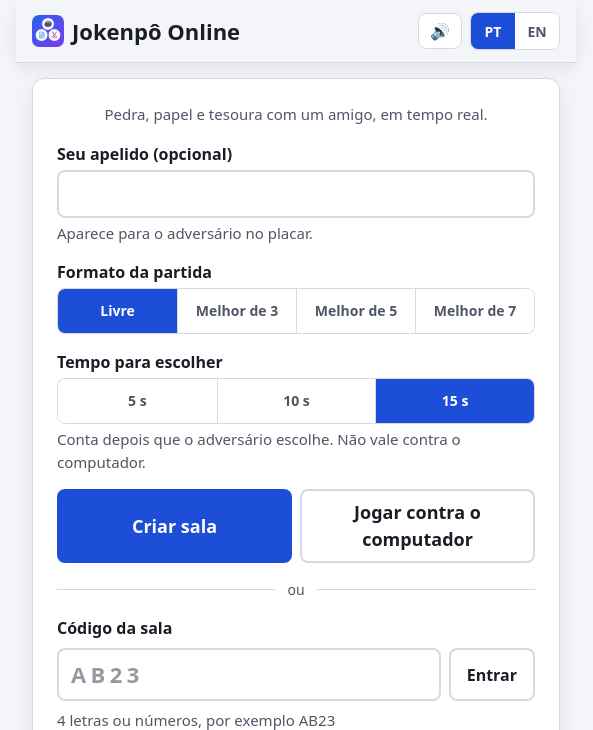
Scenario: fase 5: formato, apelido e computador › o formato escolhido vale para a sala criada e aparece no placar
Click the radio button labelled "Melhor de 3" at (236, 311), box [177, 289, 296, 333]
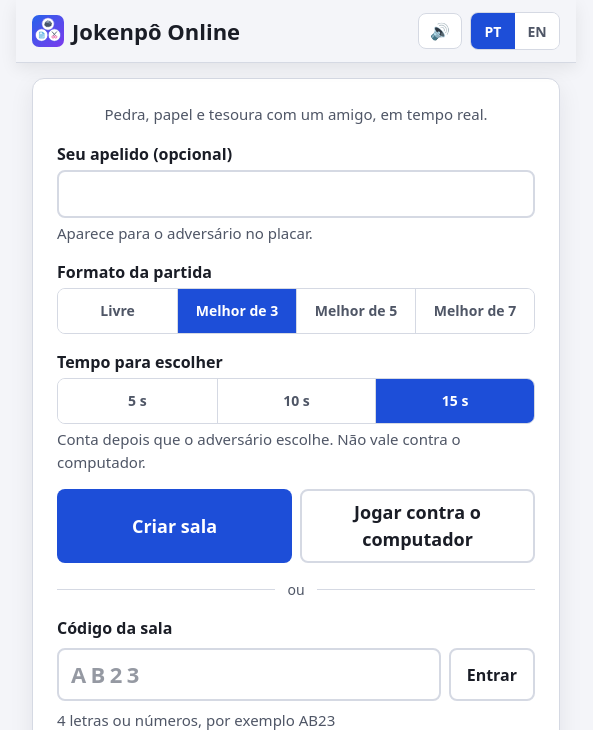
Click the button "Criar sala" at (174, 526), box [57, 489, 292, 563]
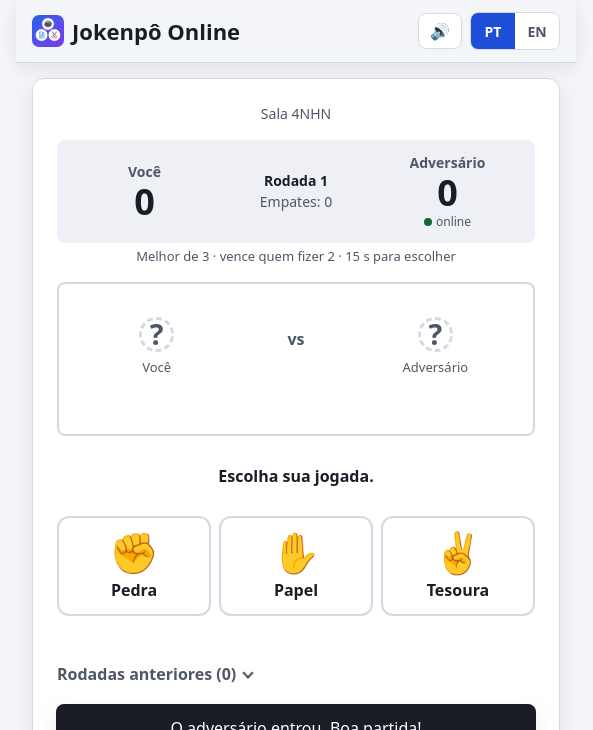
Expected: the text "Melhor de 3 · vence quem fizer 2 · 15 s para escolher" is shown, [136, 247, 456, 265]
